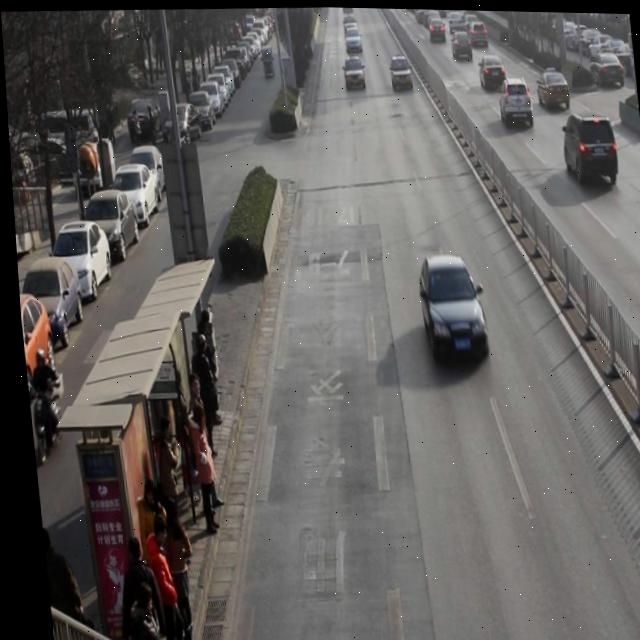car: (411, 250, 487, 364), (558, 107, 618, 185), (495, 74, 533, 127), (533, 63, 571, 109), (587, 48, 626, 87), (476, 52, 506, 88), (388, 51, 412, 91), (340, 52, 363, 91), (448, 26, 472, 60), (343, 22, 363, 53), (467, 17, 487, 46), (427, 13, 446, 42), (447, 8, 463, 29), (461, 10, 477, 29)
